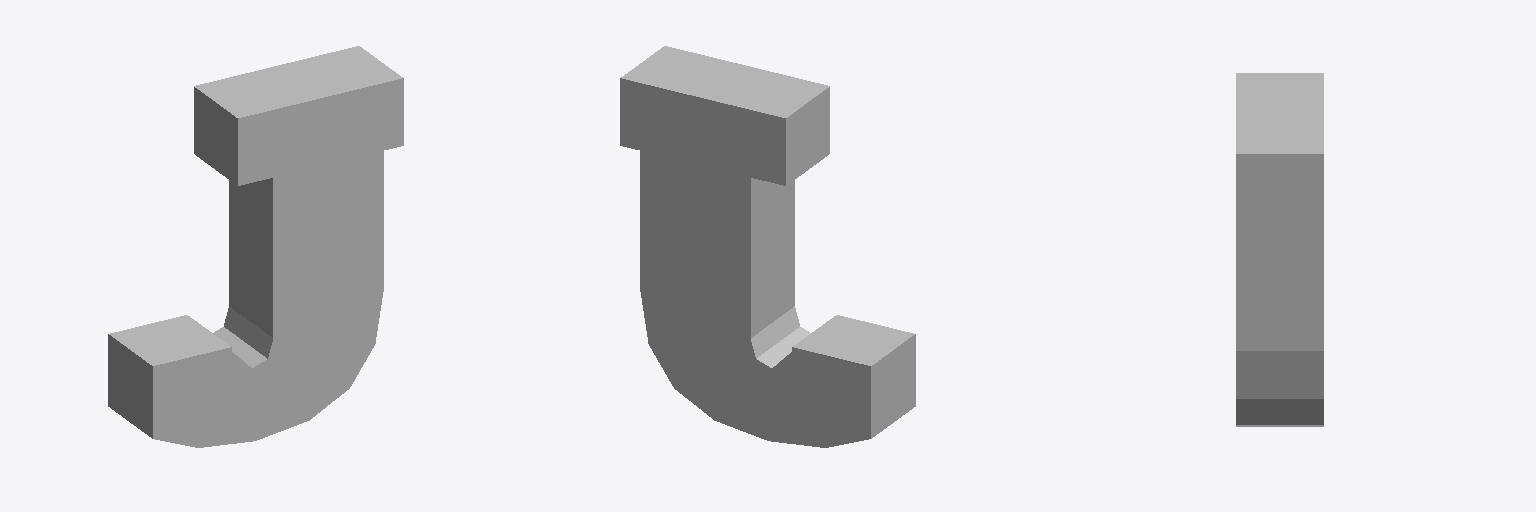
3 renders of one model, left to right at view 1: azimuth 30°, elevation 25°; view 2: azimuth 150°, elevation 25°; view 3: azimuth 270°, elevation 25°, orthographic.
Visible parts, largest first — view 1: text: ABCDEFGHIJKLMNOPQRSTUVWXYZ[number redacted]; view 2: text: ABCDEFGHIJKLMNOPQRSTUVWXYZ[number redacted]; view 3: text: ABCDEFGHIJKLMNOPQRSTUVWXYZ[number redacted].
Boxes of the visible parts, box(x1,y1,x2,y2) form: text: ABCDEFGHIJKLMNOPQRSTUVWXYZ[number redacted]: box(108, 46, 403, 447); text: ABCDEFGHIJKLMNOPQRSTUVWXYZ[number redacted]: box(620, 46, 915, 447); text: ABCDEFGHIJKLMNOPQRSTUVWXYZ[number redacted]: box(1236, 73, 1323, 426).
Size of the model in its own units: 81.75 by 102 by 25.